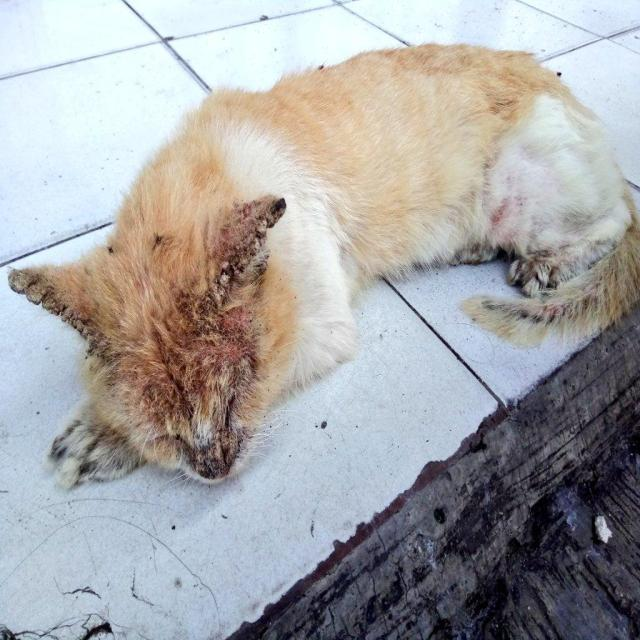ghe: (2, 261, 146, 388), (469, 215, 589, 324), (190, 188, 308, 292), (170, 302, 272, 396)
